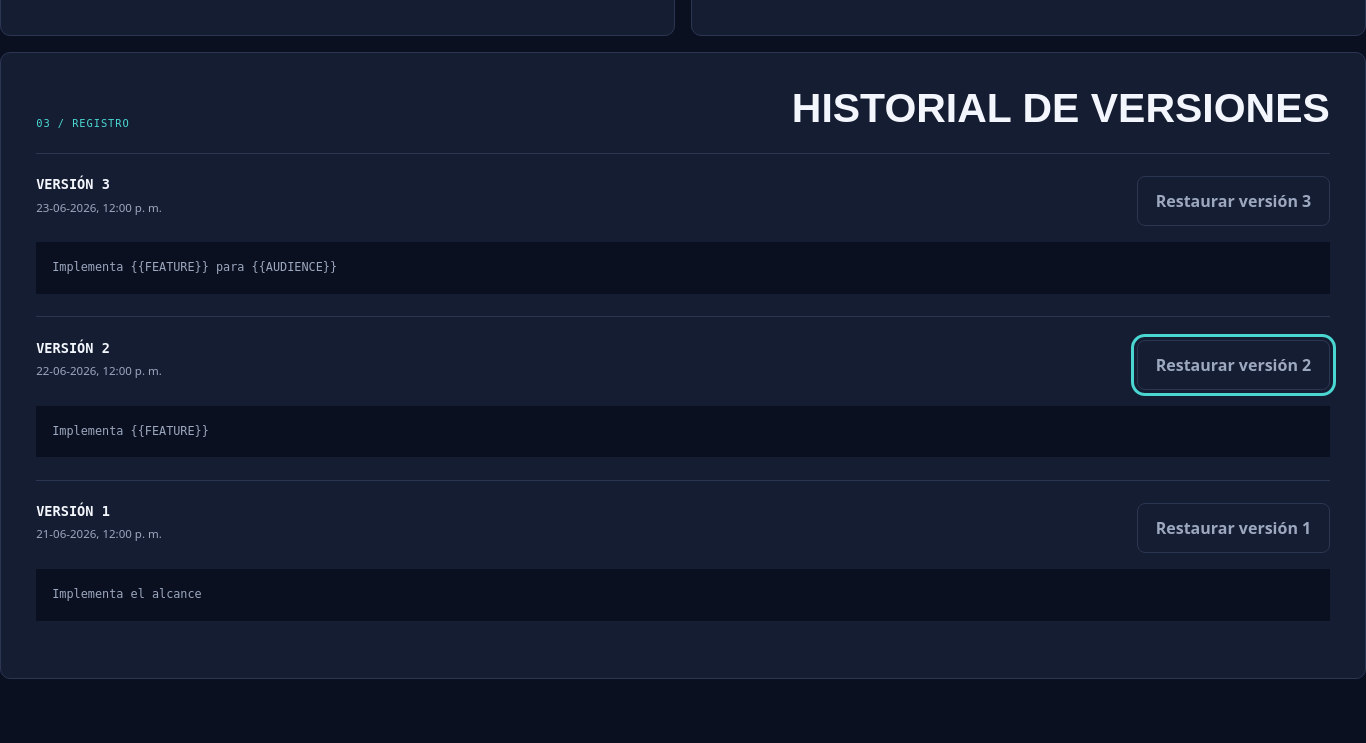
Test: TemplateEditor › devuelve el foco al disparador después de restaurar con éxito
(page scrolled)
Click the button "Restaurar versión 2". click: (1233, 365)
box: [1137, 340, 1330, 390]
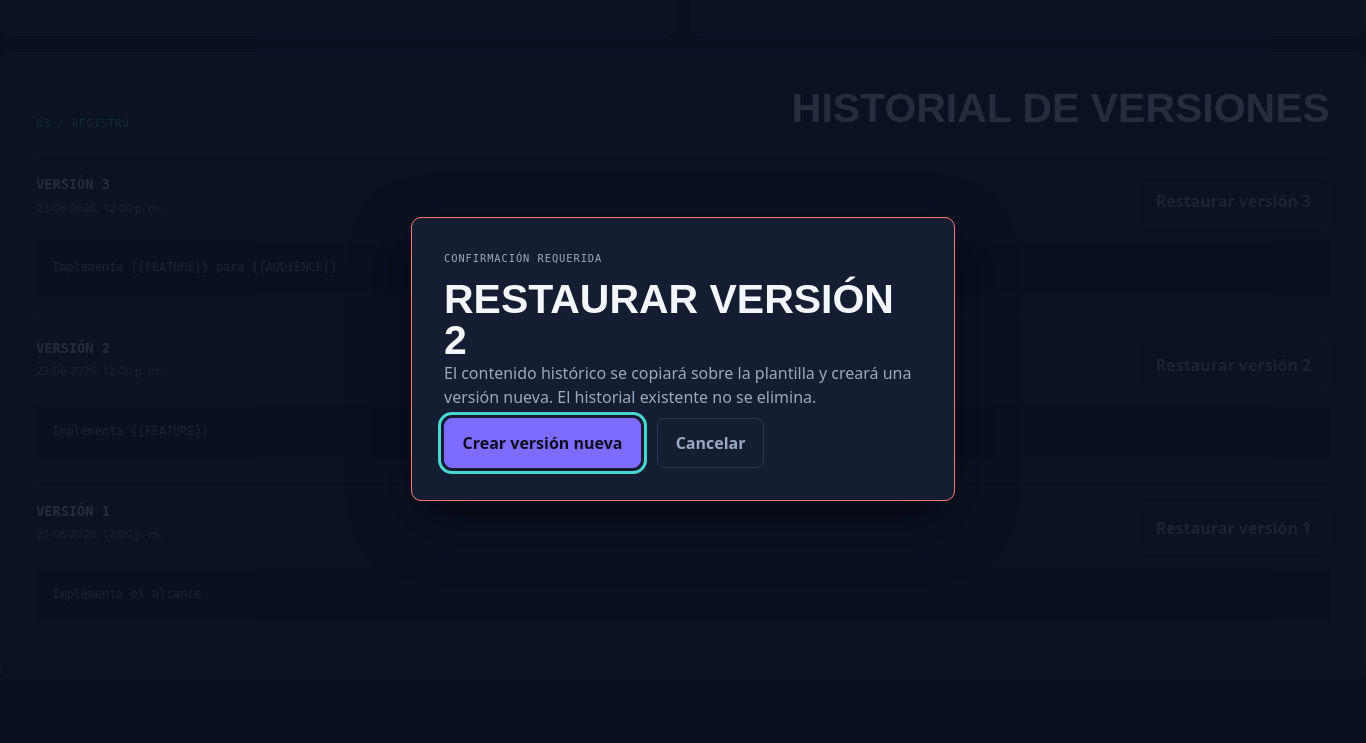
Click the button "Crear versión nueva". click: (542, 443)
box: [444, 418, 641, 468]
(page scrolled)
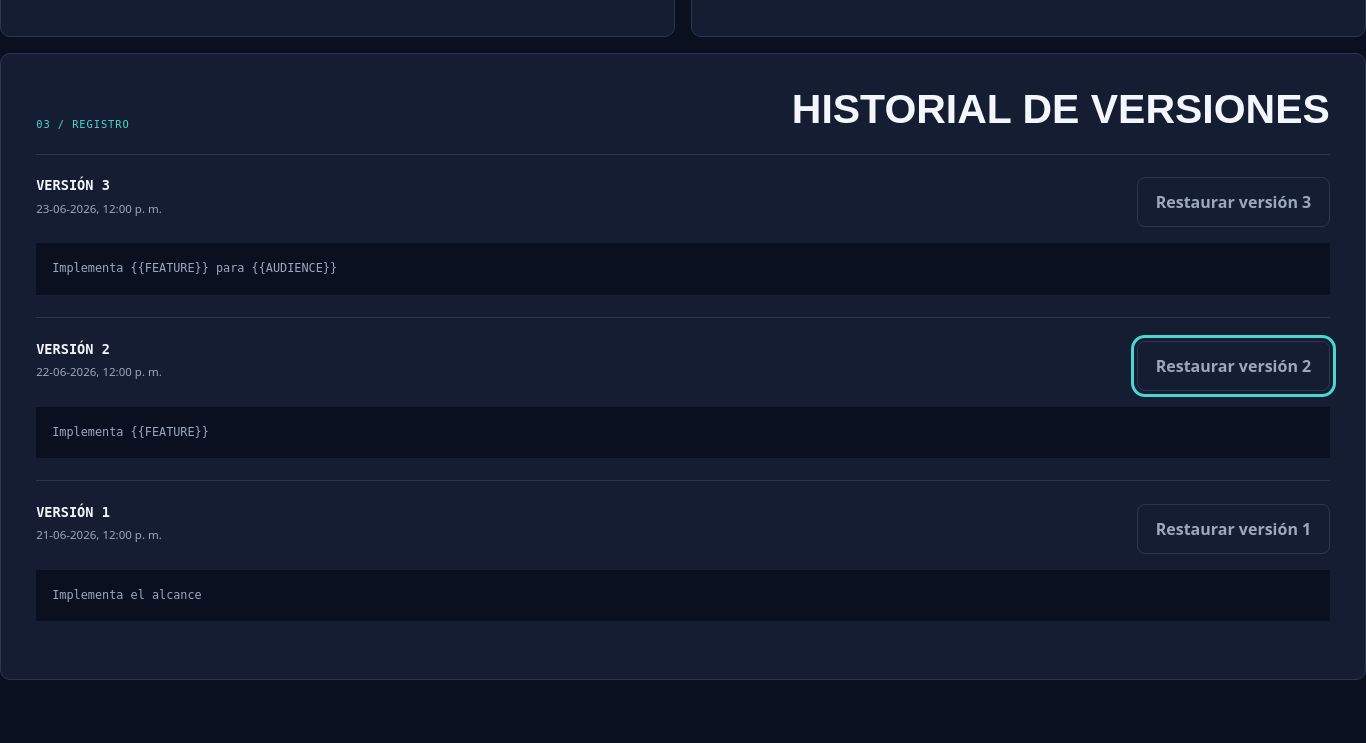
Now the dialog is gone
